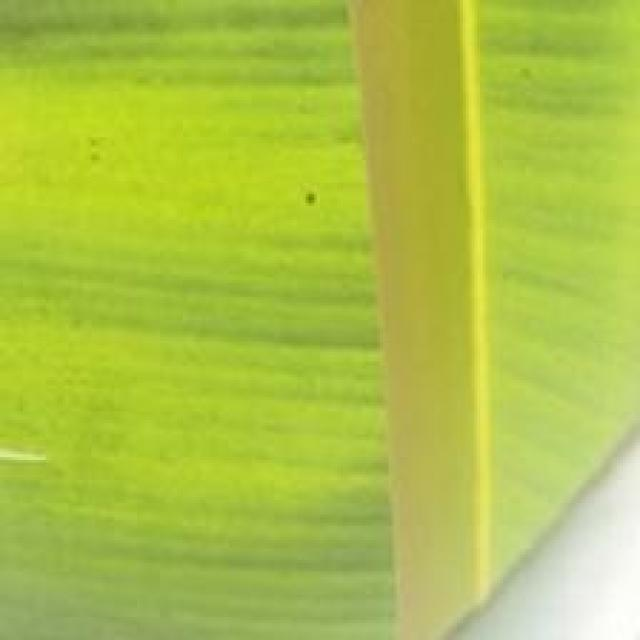Black_leaf_spot: (0, 0, 614, 593)
